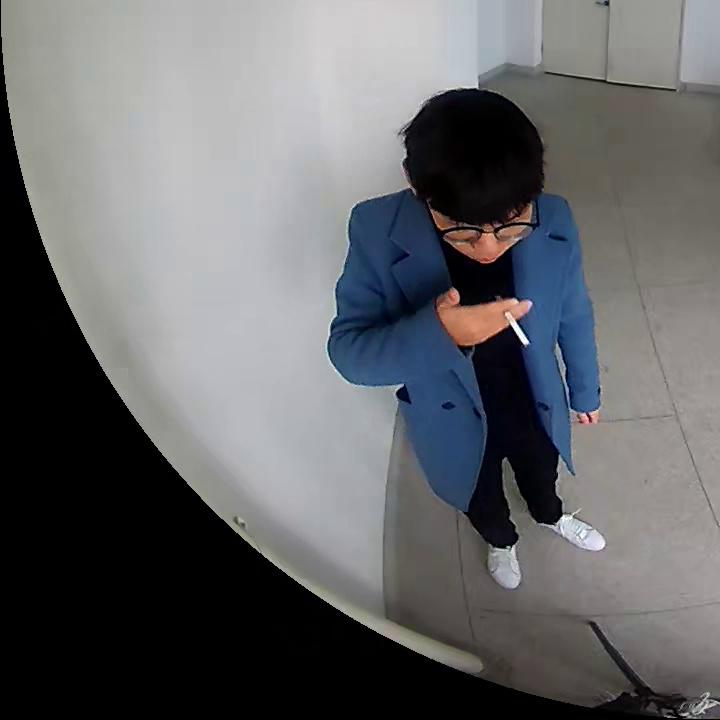handsmoke: (441, 289, 535, 351)
handwithoutsmoke: (573, 411, 604, 429)
mouthwithoutsmoke: (398, 90, 545, 267)
